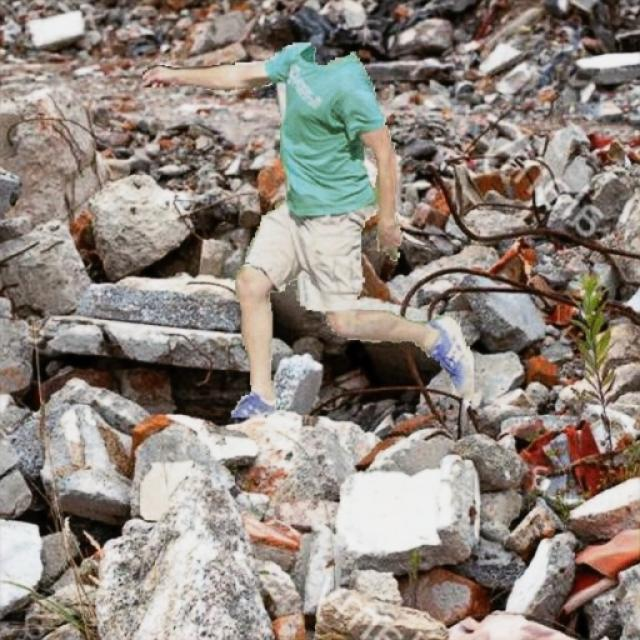Person in Rubble: (142, 42, 472, 416)
